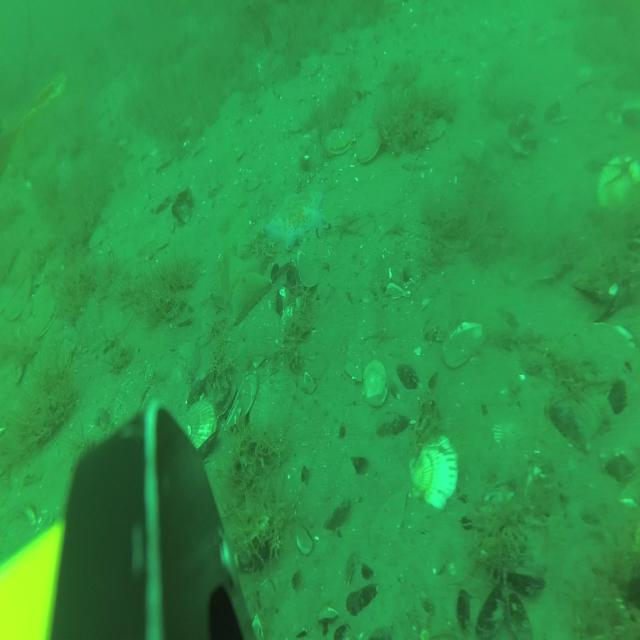scallop: (410, 429, 460, 511), (598, 151, 640, 215), (172, 394, 215, 452), (442, 317, 484, 369), (111, 377, 141, 434), (361, 360, 387, 407), (356, 124, 380, 160), (324, 125, 348, 154)
starfish: (212, 250, 268, 317), (266, 190, 324, 244)
